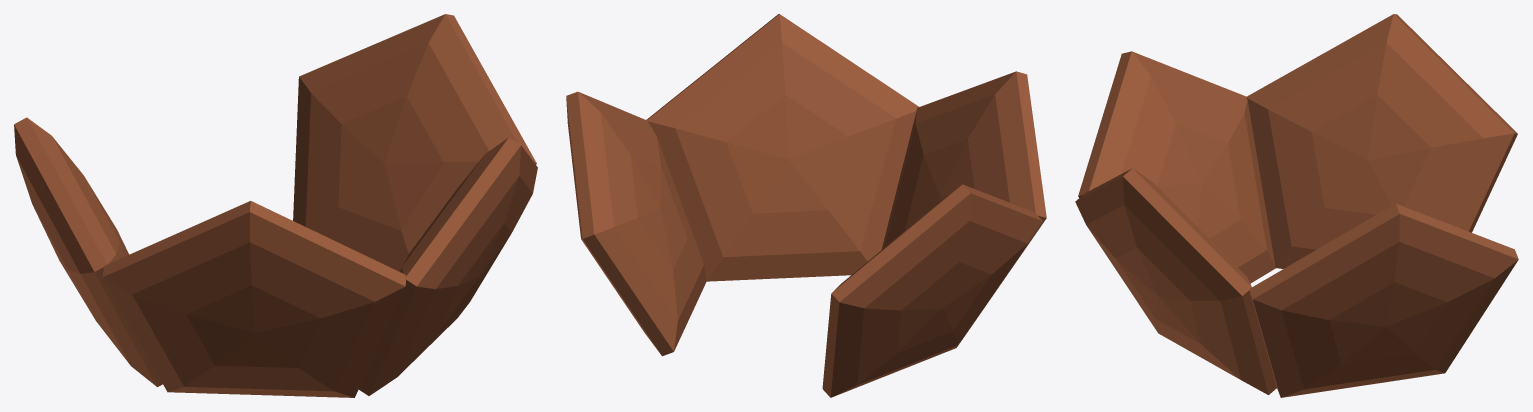
The model's file is PFC_Fourpent.fbx.
3 renders of one model, left to right at view 1: azimuth 30°, elevation 25°; view 2: azimuth 150°, elevation 25°; view 3: azimuth 270°, elevation 25°, orthographic. The views are drawn at different scales.
Visible parts, largest first — view 1: Pent.039; view 2: Pent.039; view 3: Pent.039.
Part boxes in pixels (bbox=[...]): Pent.039: bbox=[14, 14, 537, 397]; Pent.039: bbox=[566, 14, 1046, 397]; Pent.039: bbox=[1075, 14, 1518, 397].
Bounding box in the file's own units: 313 × 163 × 292.
